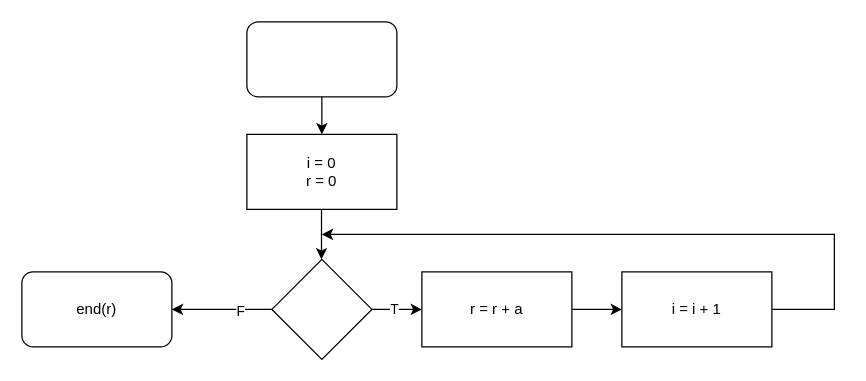
This 866x381 diagram has some shape labels left out. Here are the shapes that lost their labels. From the top down, the centre of each, then its label:
At pixel 321 59: "times_n(a, n)".
At pixel 321 308: "i < n".
